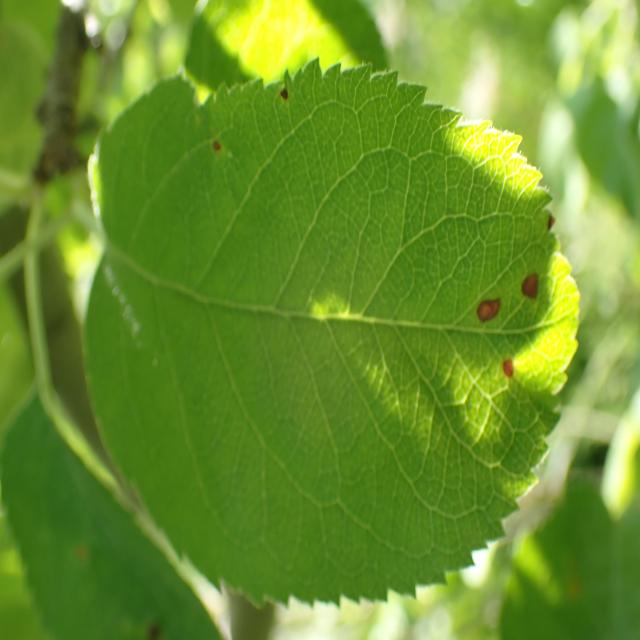Black Rot: (509, 252, 566, 309), (492, 345, 536, 393), (469, 283, 503, 336), (530, 207, 562, 248), (272, 78, 298, 114), (200, 132, 226, 164)
